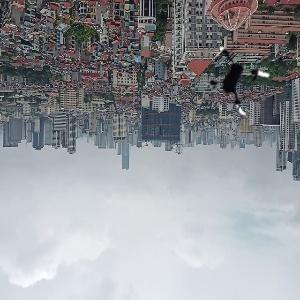drone: (203, 43, 279, 119)
